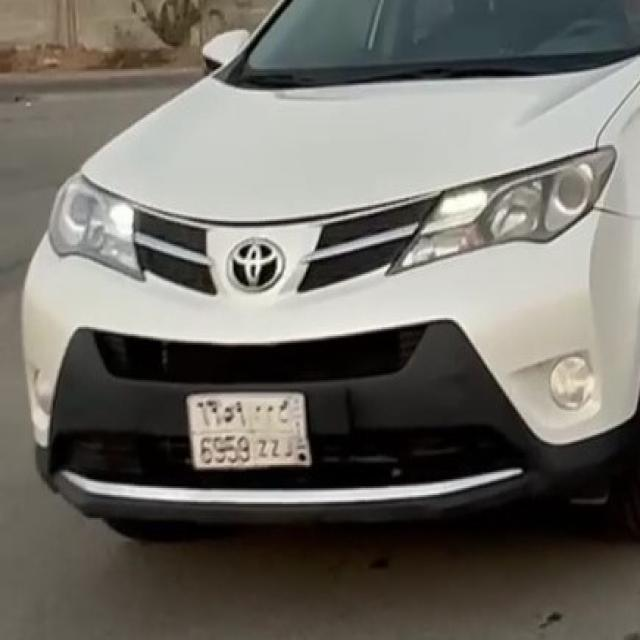Car-plate: (176, 380, 320, 482)
